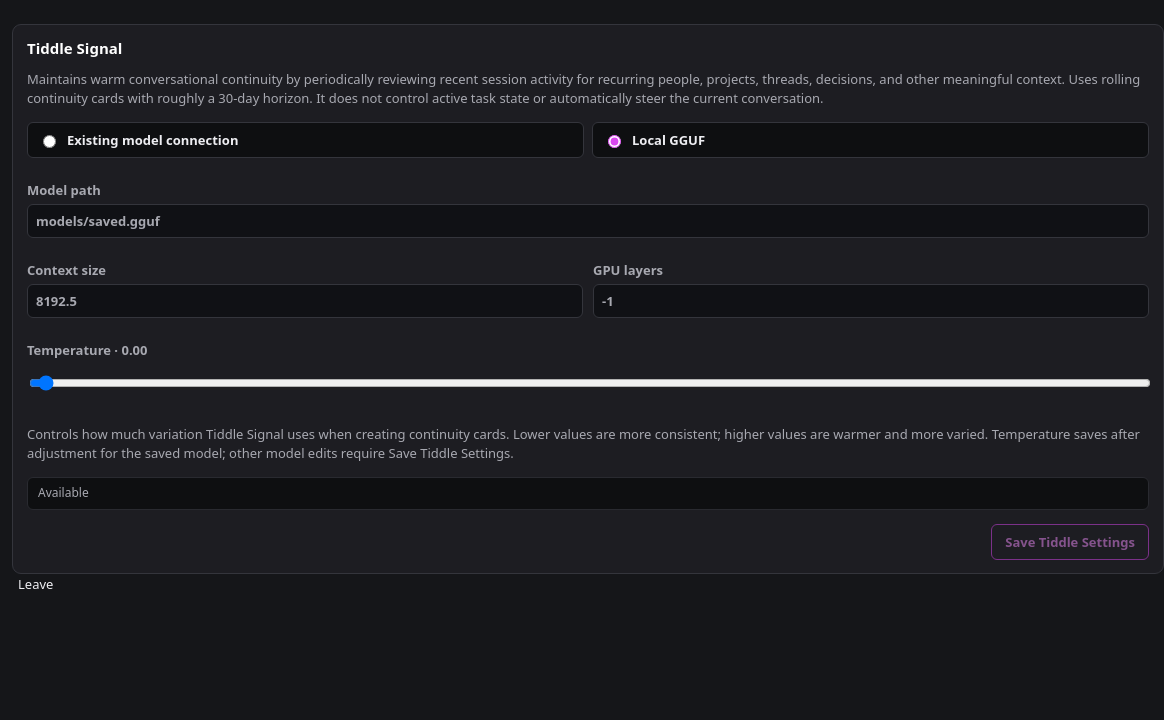
Test: accepts backend selection metadata and numeric boundaries for local
Press the mouse on the slider: (590, 383) [29,366,1151,400]
Set the slider to "0.3": (701, 383) [29,366,1151,400]
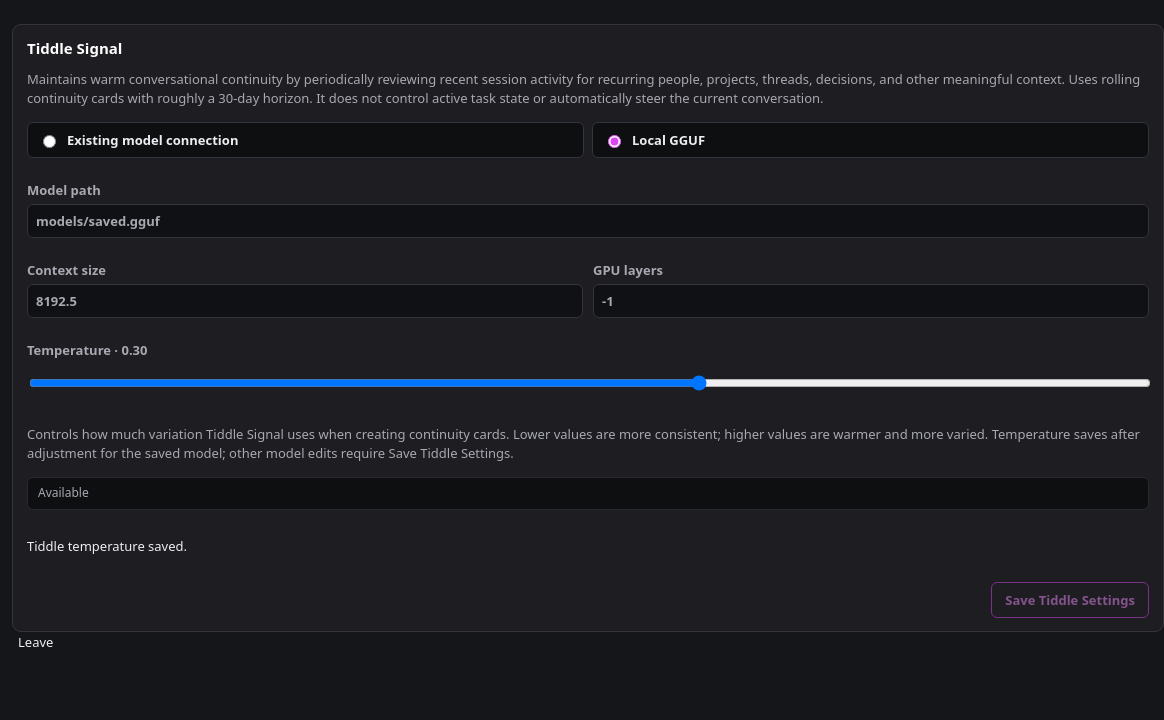
expect the text "Tiddle temperature saved." is shown: met, box [27,537,187,555]
